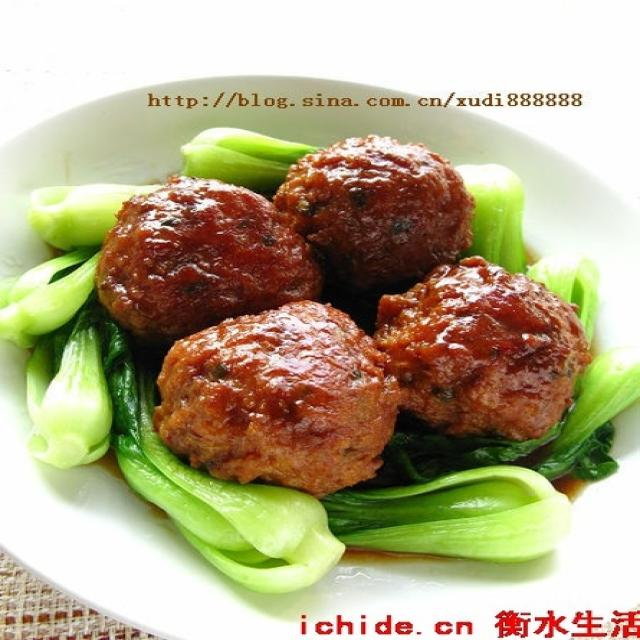猪肉菜式: (28, 64, 612, 586)
